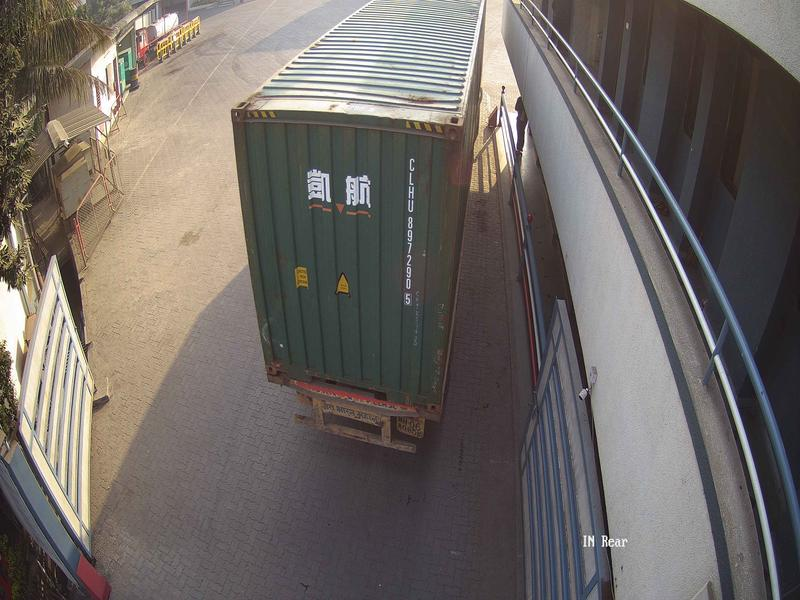container: (231, 103, 498, 473)
